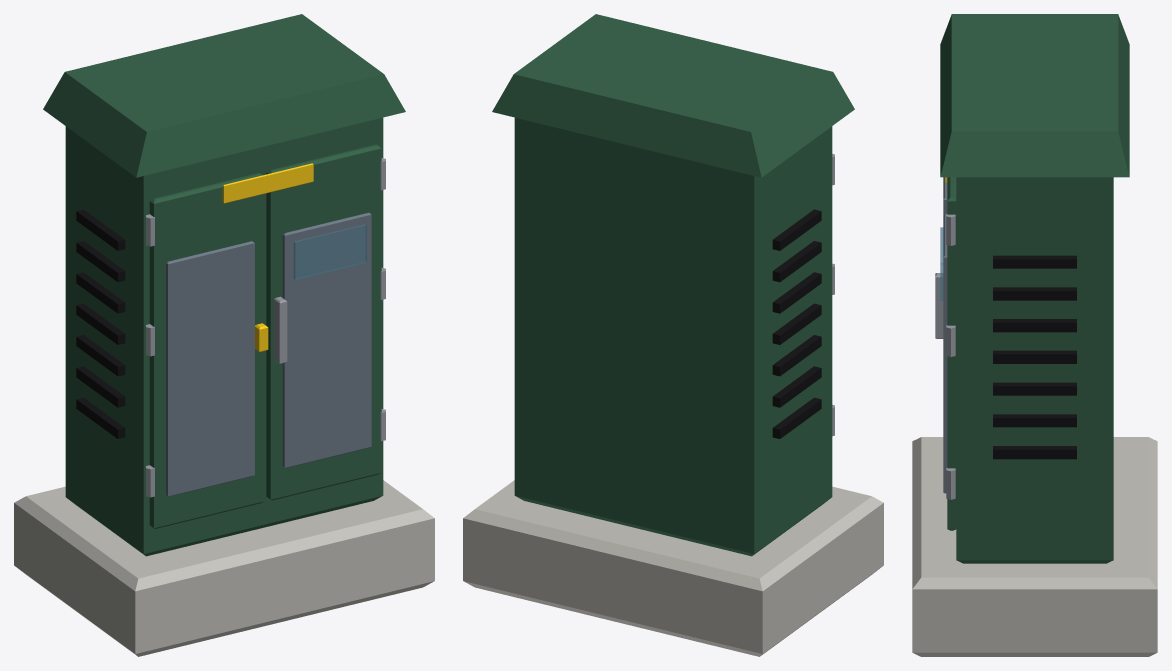
File: UTILITY_12.obj
The picture shows the model from 3 angles, left to right: view 1: azimuth 30°, elevation 25°; view 2: azimuth 150°, elevation 25°; view 3: azimuth 270°, elevation 25°; orthographic projection.
Visible parts, largest first — view 1: UTILITY_12__door_inset, UTILITY_12__pedestal, UTILITY_12__cabinet, UTILITY_12__roof, UTILITY_12__door, UTILITY_12__side_louvre, UTILITY_12__meter_window, UTILITY_12__warning, UTILITY_12__hinge, UTILITY_12__handle; view 2: UTILITY_12__cabinet, UTILITY_12__pedestal, UTILITY_12__roof, UTILITY_12__side_louvre; view 3: UTILITY_12__cabinet, UTILITY_12__pedestal, UTILITY_12__roof, UTILITY_12__side_louvre, UTILITY_12__door, UTILITY_12__door_inset, UTILITY_12__hinge, UTILITY_12__handle.
Boxes of the visible parts, x1,y1,x2,y2 form: UTILITY_12__door_inset: (166,212,371,496); UTILITY_12__pedestal: (14,480,434,656); UTILITY_12__cabinet: (65,117,383,556); UTILITY_12__roof: (43,14,405,177); UTILITY_12__door: (149,144,381,528); UTILITY_12__side_louvre: (76,209,125,438); UTILITY_12__meter_window: (293,224,366,279); UTILITY_12__warning: (222,163,313,203); UTILITY_12__hinge: (146,158,385,497); UTILITY_12__handle: (273,296,287,363); UTILITY_12__cabinet: (514,117,832,556); UTILITY_12__pedestal: (463,480,883,656); UTILITY_12__roof: (492,14,854,177); UTILITY_12__side_louvre: (772,209,821,438); UTILITY_12__cabinet: (956,177,1113,563); UTILITY_12__pedestal: (912,437,1157,656); UTILITY_12__roof: (940,14,1129,177); UTILITY_12__side_louvre: (993,255,1076,459); UTILITY_12__door: (947,177,956,530); UTILITY_12__door_inset: (943,177,947,493); UTILITY_12__hinge: (946,214,955,499); UTILITY_12__handle: (935,273,943,338).
Bounding box in the file's own units: 1 × 1.62 × 0.7.
